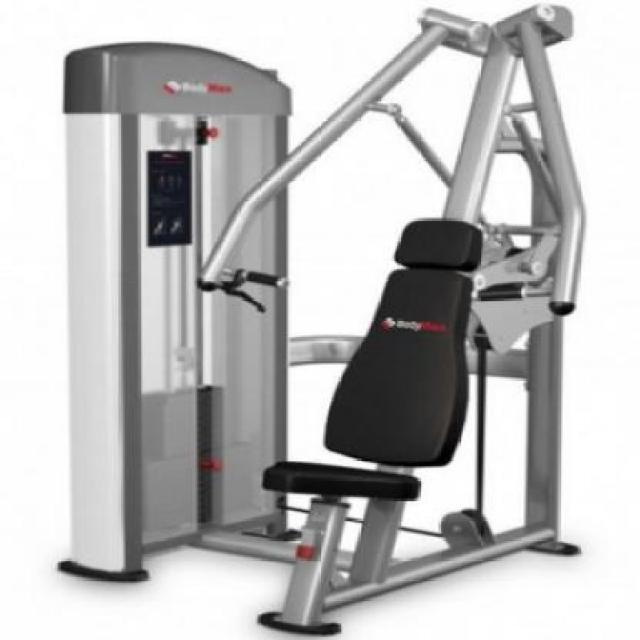Chest Press machine: (55, 1, 630, 640)
